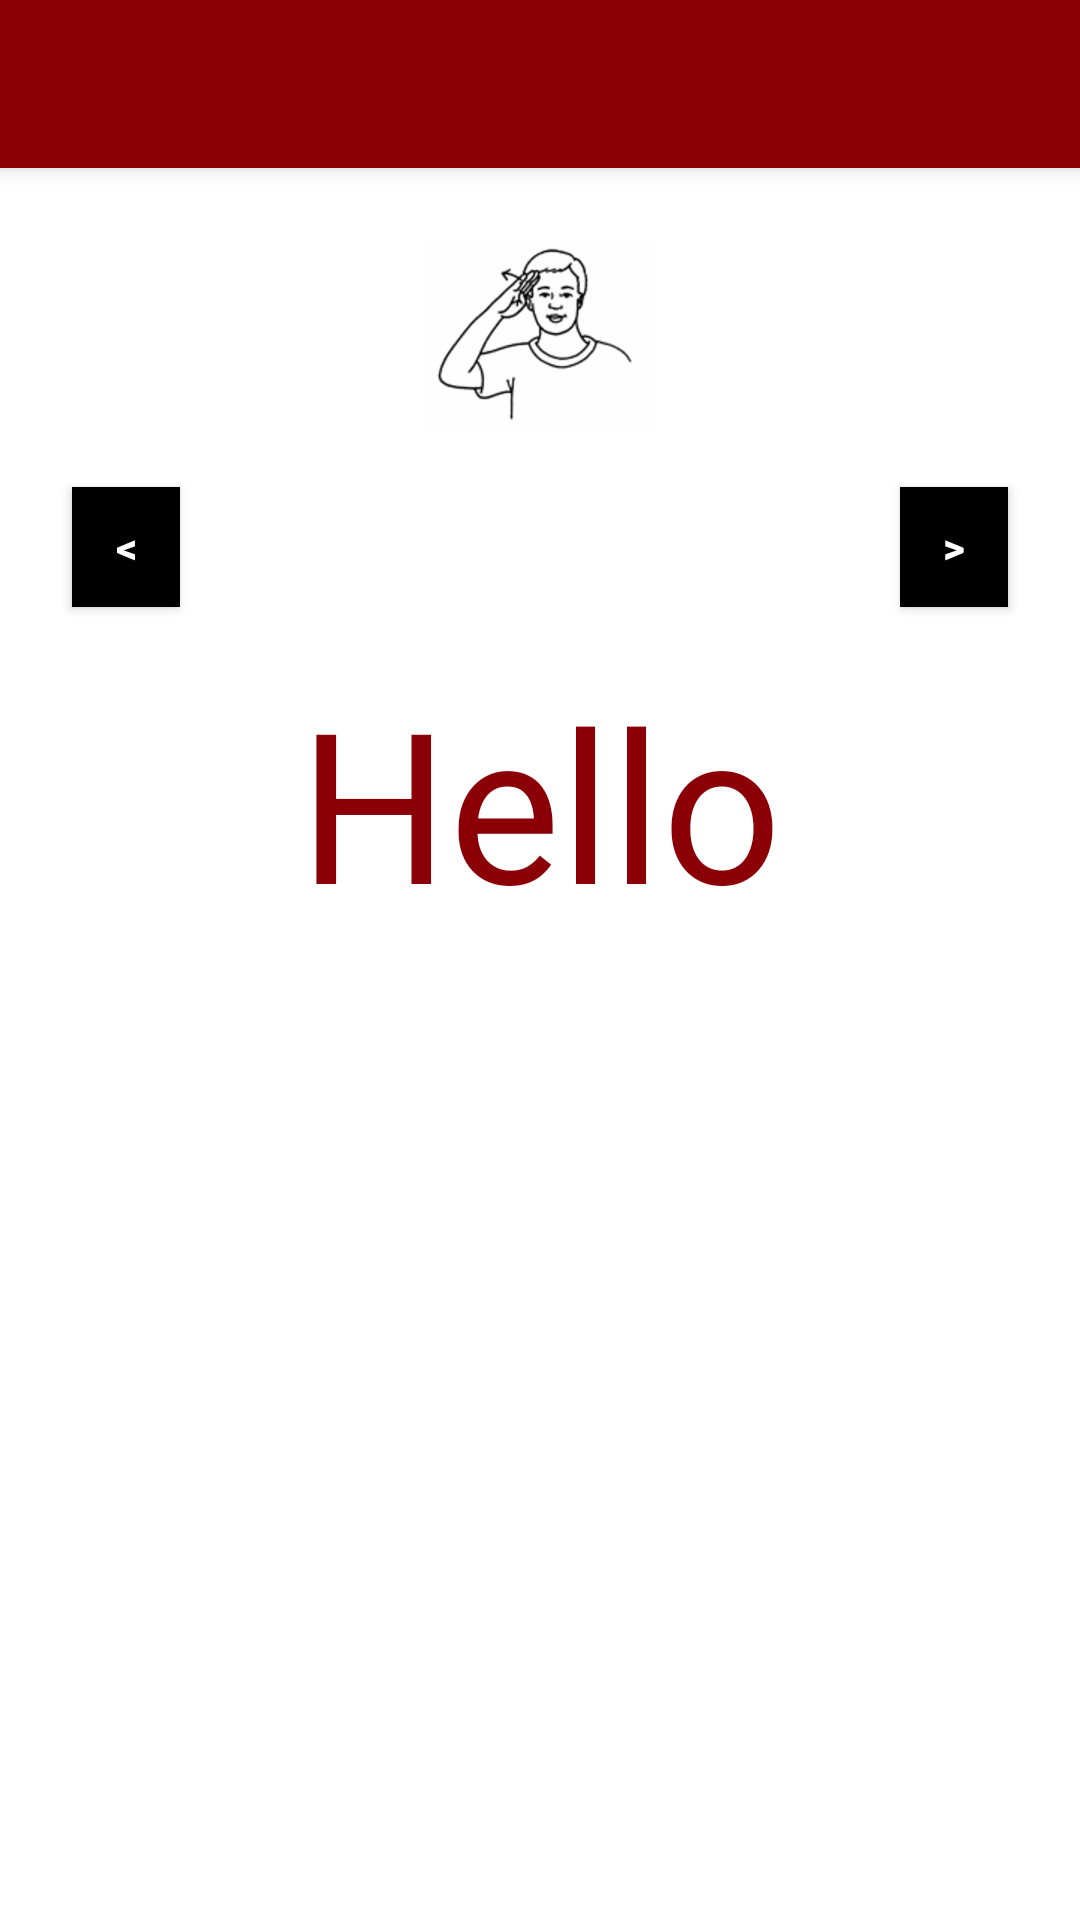

Icons on this 1080w x 1920h Android screen, each with its box as (x1, y1, x2, y2):
travel words hello: (437, 248, 632, 420)
